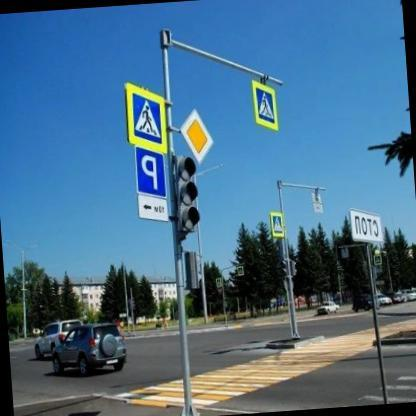off traffic light: (172, 155, 202, 239)
road_sign: (125, 83, 166, 153), (179, 110, 212, 163), (135, 147, 166, 198), (252, 80, 277, 131), (351, 209, 384, 241), (137, 195, 169, 222), (271, 211, 284, 239)
